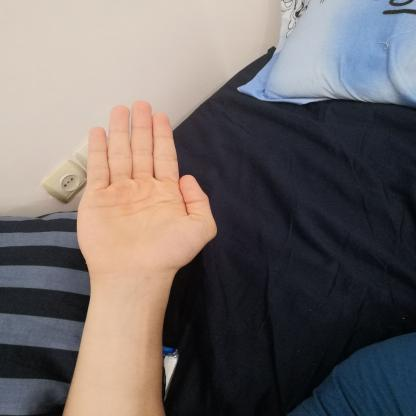SEEN: (63, 92, 224, 278)
